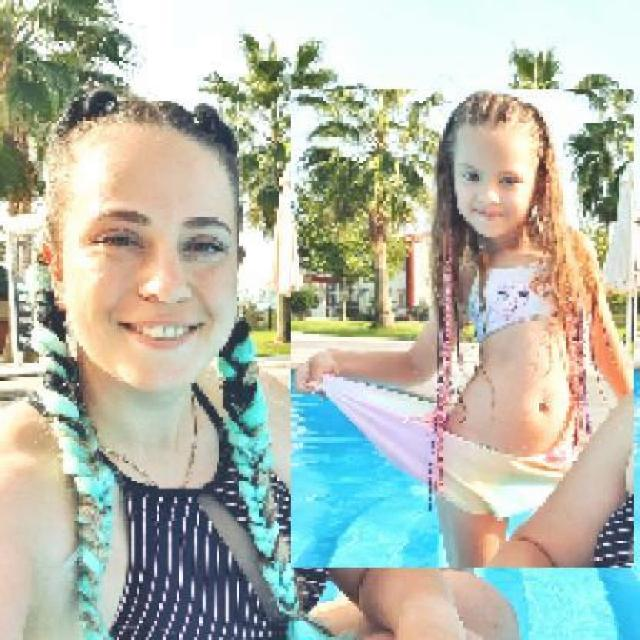child: (289, 90, 634, 570)
